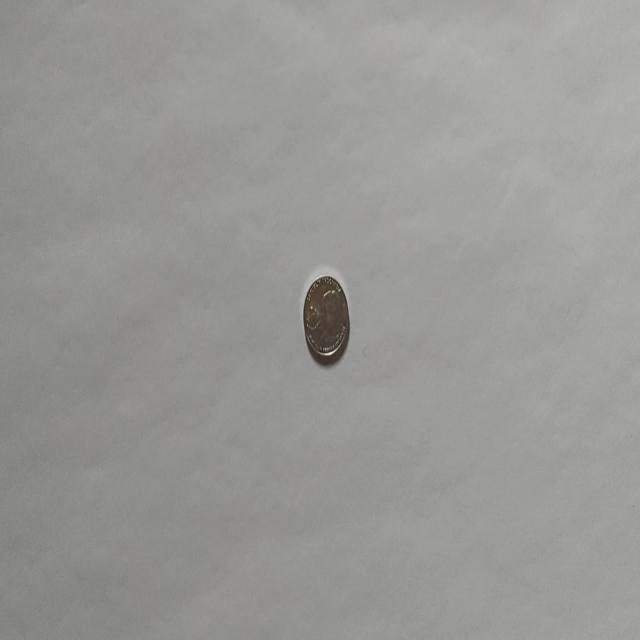seratus rupiah: (302, 273, 350, 363)
